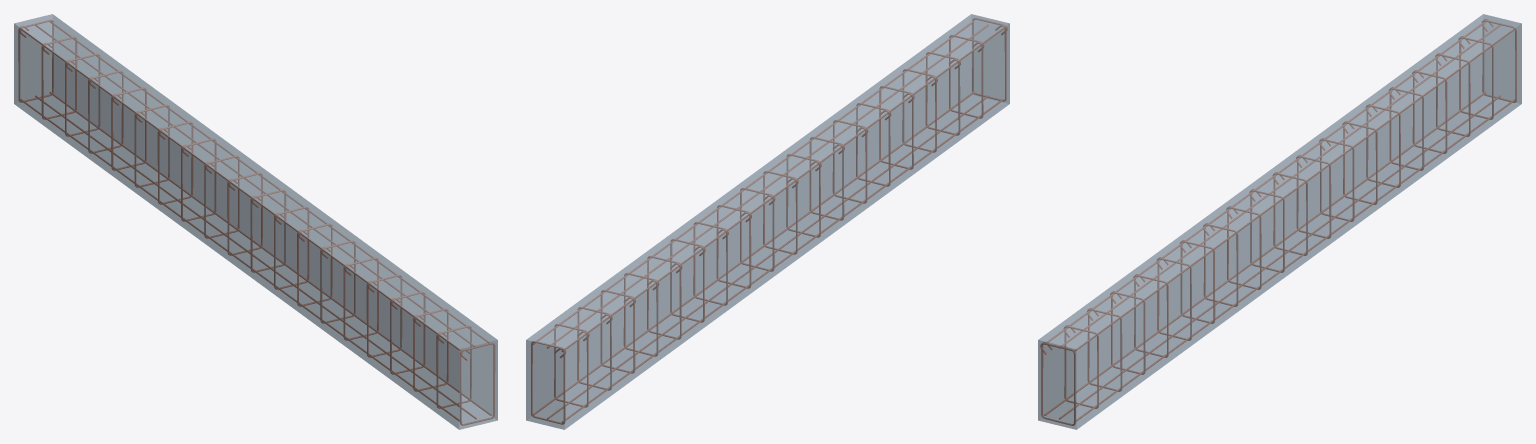
File: otimo_design_belka_zelbetowa_zbrojenie.glb
The picture shows the model from 3 angles, left to right: view 1: azimuth 30°, elevation 25°; view 2: azimuth 150°, elevation 25°; view 3: azimuth 330°, elevation 25°; orthographic projection.
Parts seen in each view (by area): view 1: Beam, Stirrup, StraightRebar, StraightRebar.001; view 2: Beam, Stirrup, StraightRebar, StraightRebar.001; view 3: Beam, Stirrup, StraightRebar, StraightRebar.001.
Part boxes in pixels (bbox=[...]): Beam: bbox=[14, 14, 497, 429]; Stirrup: bbox=[18, 19, 495, 425]; StraightRebar: bbox=[20, 92, 491, 422]; StraightRebar.001: bbox=[22, 21, 489, 350]; Beam: bbox=[526, 14, 1009, 429]; Stirrup: bbox=[531, 18, 1007, 424]; StraightRebar: bbox=[532, 92, 1003, 422]; StraightRebar.001: bbox=[532, 21, 1003, 351]; Beam: bbox=[1038, 14, 1521, 429]; Stirrup: bbox=[1040, 19, 1516, 425]; StraightRebar: bbox=[1044, 92, 1515, 422]; StraightRebar.001: bbox=[1047, 21, 1514, 351].
Size of the model in its own units: 0.2 by 0.4 by 4.
